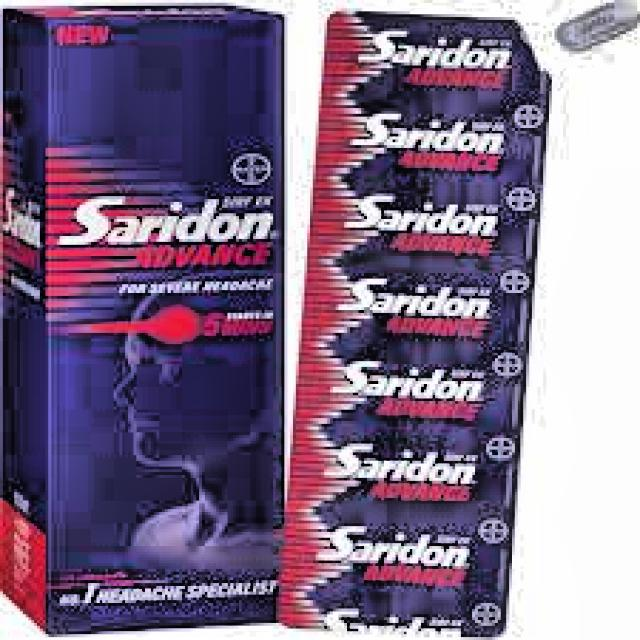Saridon: (52, 25, 293, 612)
